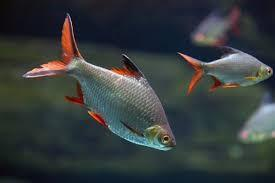Silver Barb: (23, 14, 177, 152), (180, 45, 274, 95), (188, 5, 249, 47), (239, 100, 275, 144)
